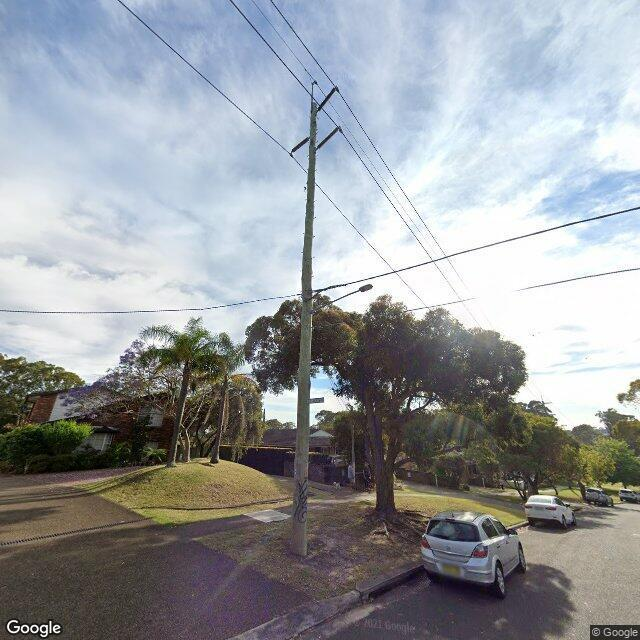HV-transmission: (291, 81, 342, 154)
streetlight: (312, 283, 372, 314)
timber-pole: (289, 99, 319, 556)
